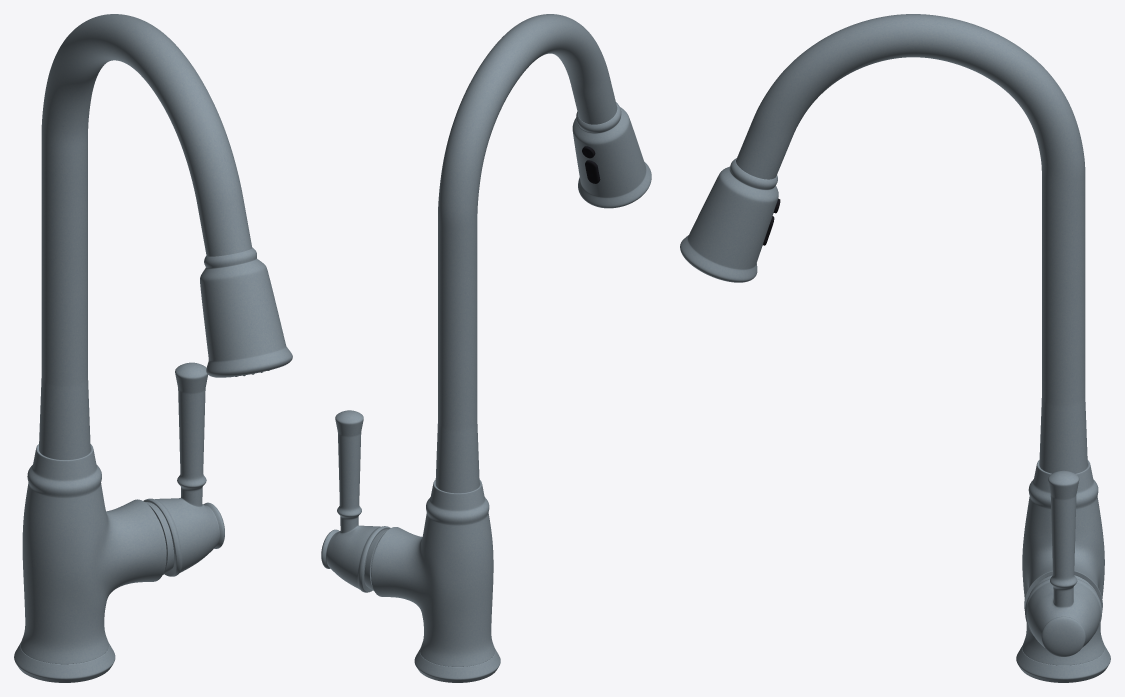
File: st_claire.glb
3 renders of one model, left to right at view 1: azimuth 30°, elevation 25°; view 2: azimuth 150°, elevation 25°; view 3: azimuth 270°, elevation 25°, orthographic. The views are drawn at different scales.
Parts seen in each view (by area): view 1: B01011; view 2: B01011; view 3: B01011.
Boxes of the visible parts, x1,y1,x2,y2 form: B01011: (14,14,292,682); B01011: (321,14,651,682); B01011: (680,14,1110,682).
Size of the model in its own units: 142 by 476 by 287.
5 materials, 5 textured.
